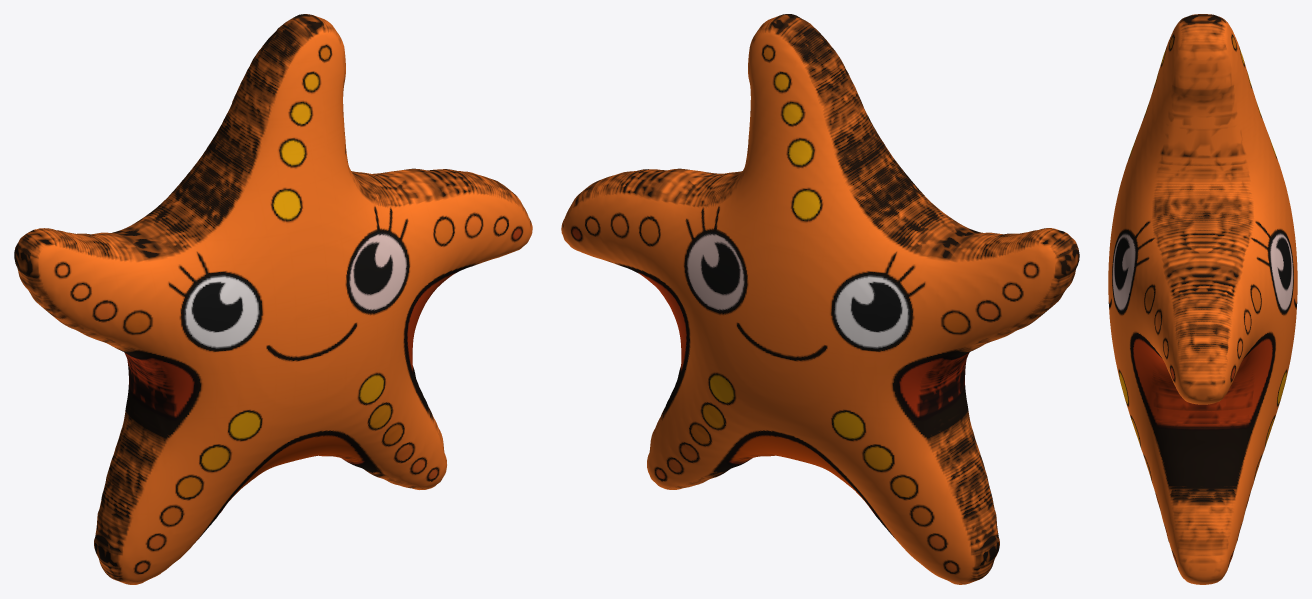
Rendered from starfish.glb.
3 renders of one model, left to right at view 1: azimuth 30°, elevation 25°; view 2: azimuth 150°, elevation 25°; view 3: azimuth 270°, elevation 25°, orthographic. The views are drawn at different scales.
Visible parts, largest first — view 1: starfish_Mesh; view 2: starfish_Mesh; view 3: starfish_Mesh.
Boxes of the visible parts, x1,y1,x2,y2 form: starfish_Mesh: (14, 14, 532, 584); starfish_Mesh: (561, 14, 1079, 584); starfish_Mesh: (1108, 14, 1297, 584).
Bounding box in the file's own units: 2.7 × 2.64 × 0.8491.
1 material, 1 textured.
